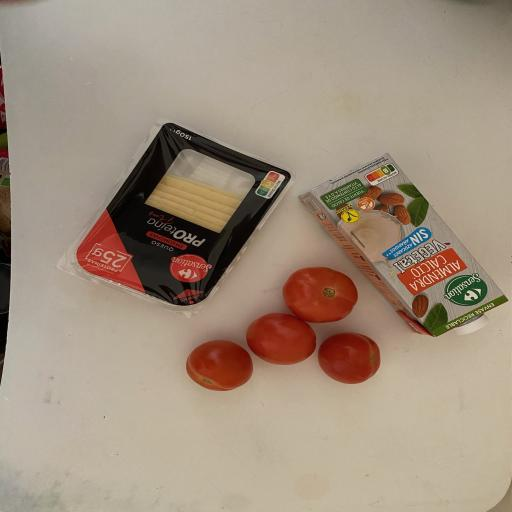cheese: (68, 118, 294, 311)
milk_almond: (295, 151, 512, 340)
tomato: (281, 263, 362, 325), (242, 309, 321, 367), (182, 336, 255, 397), (316, 330, 385, 388)
